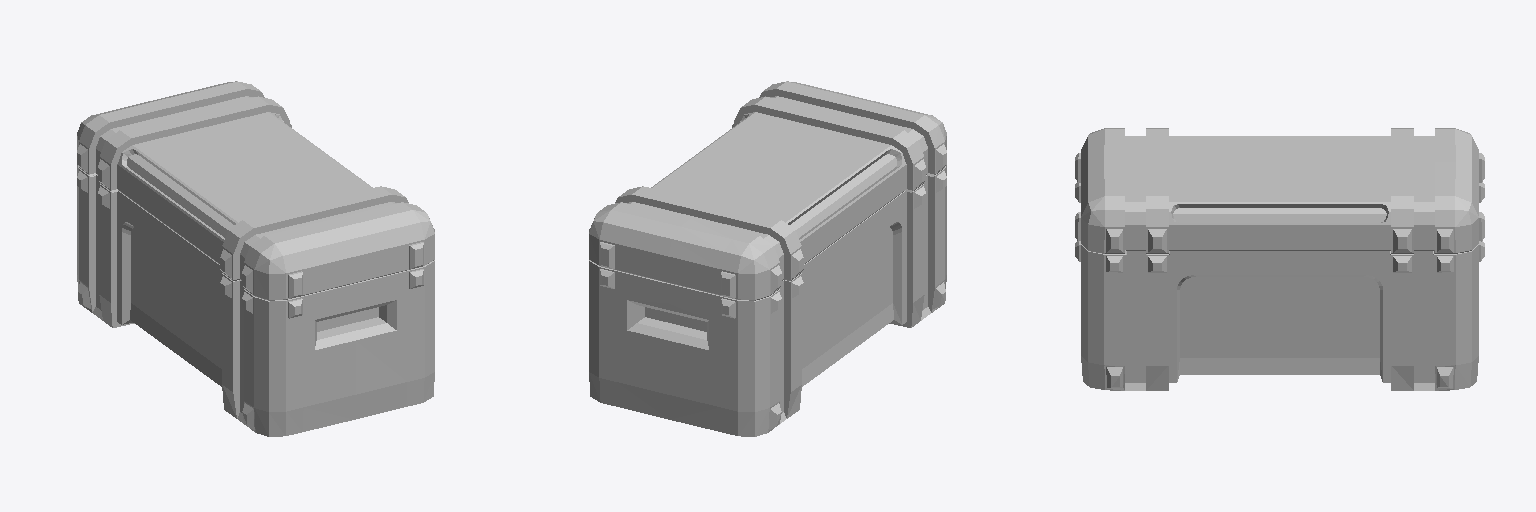
File: LootBox.obj
The picture shows the model from 3 angles: view 1: azimuth 30°, elevation 25°; view 2: azimuth 150°, elevation 25°; view 3: azimuth 270°, elevation 25°; orthographic projection.
Parts seen in each view (by area): view 1: Cube, Cube.001; view 2: Cube, Cube.001; view 3: Cube, Cube.001.
Boxes of the visible parts, box(x1,y1,x2,y2) form: Cube: box(77, 165, 434, 436); Cube.001: box(77, 81, 434, 300); Cube: box(589, 165, 946, 436); Cube.001: box(589, 81, 946, 300); Cube: box(1075, 182, 1484, 390); Cube.001: box(1075, 128, 1484, 254).
Bounding box in the file's own units: 2.29 × 2.16 × 4.29.